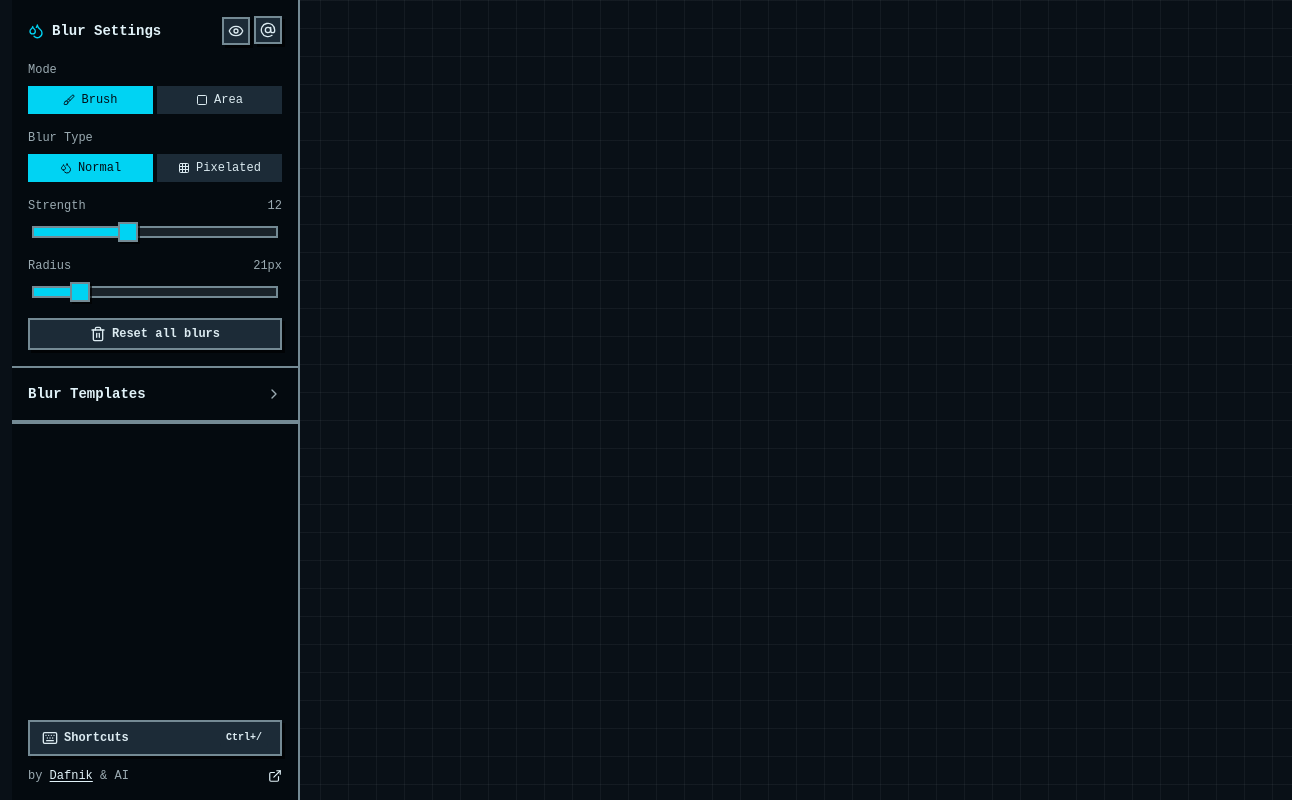
Test: EditorSidebar blur settings behavior › auto-blurs detected phone numbers
Click the button named "open auto blur menu" at coordinates (268, 30), box [254,16,282,44]
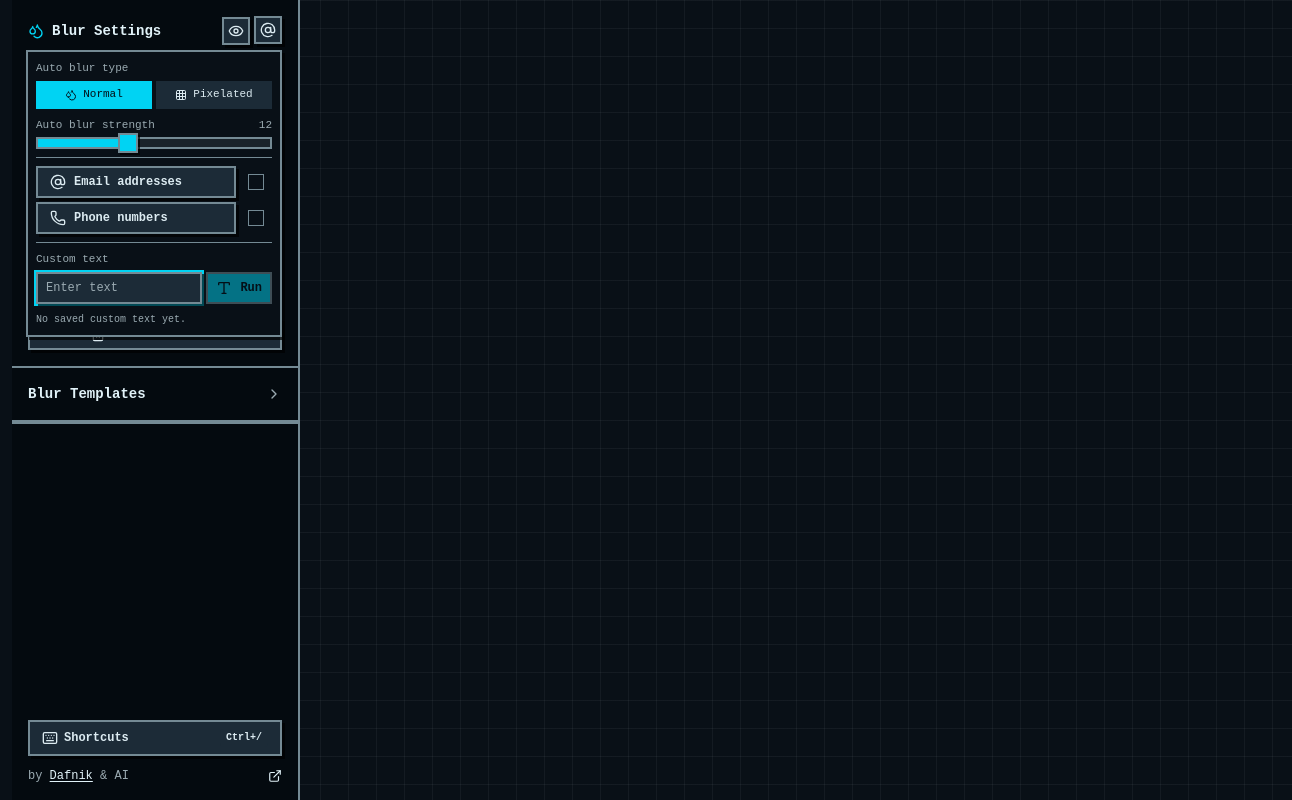
Click the button with aria-label "auto blur phone numbers" at coordinates (136, 218), box [36,202,236,234]
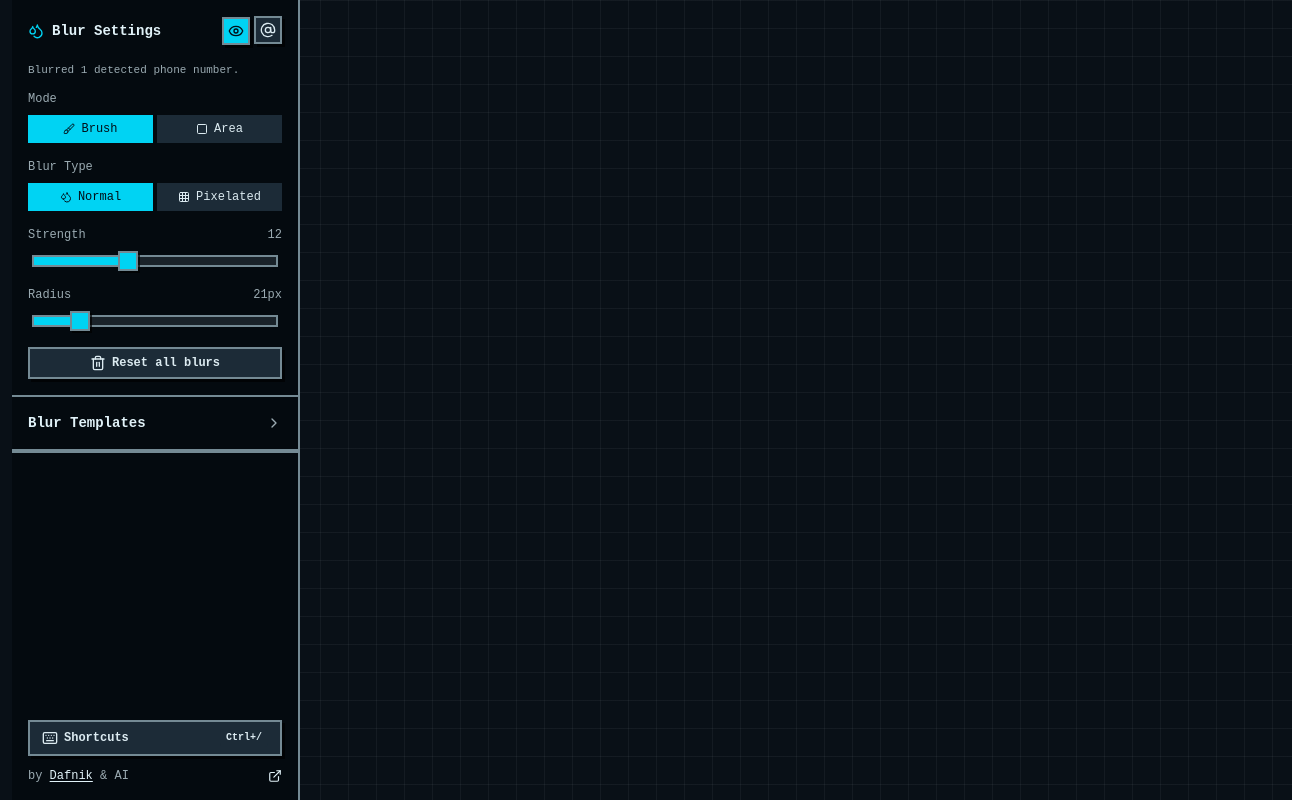
Result: the text "Blurred 1 detected phone number." is shown at [28,64,239,76]
